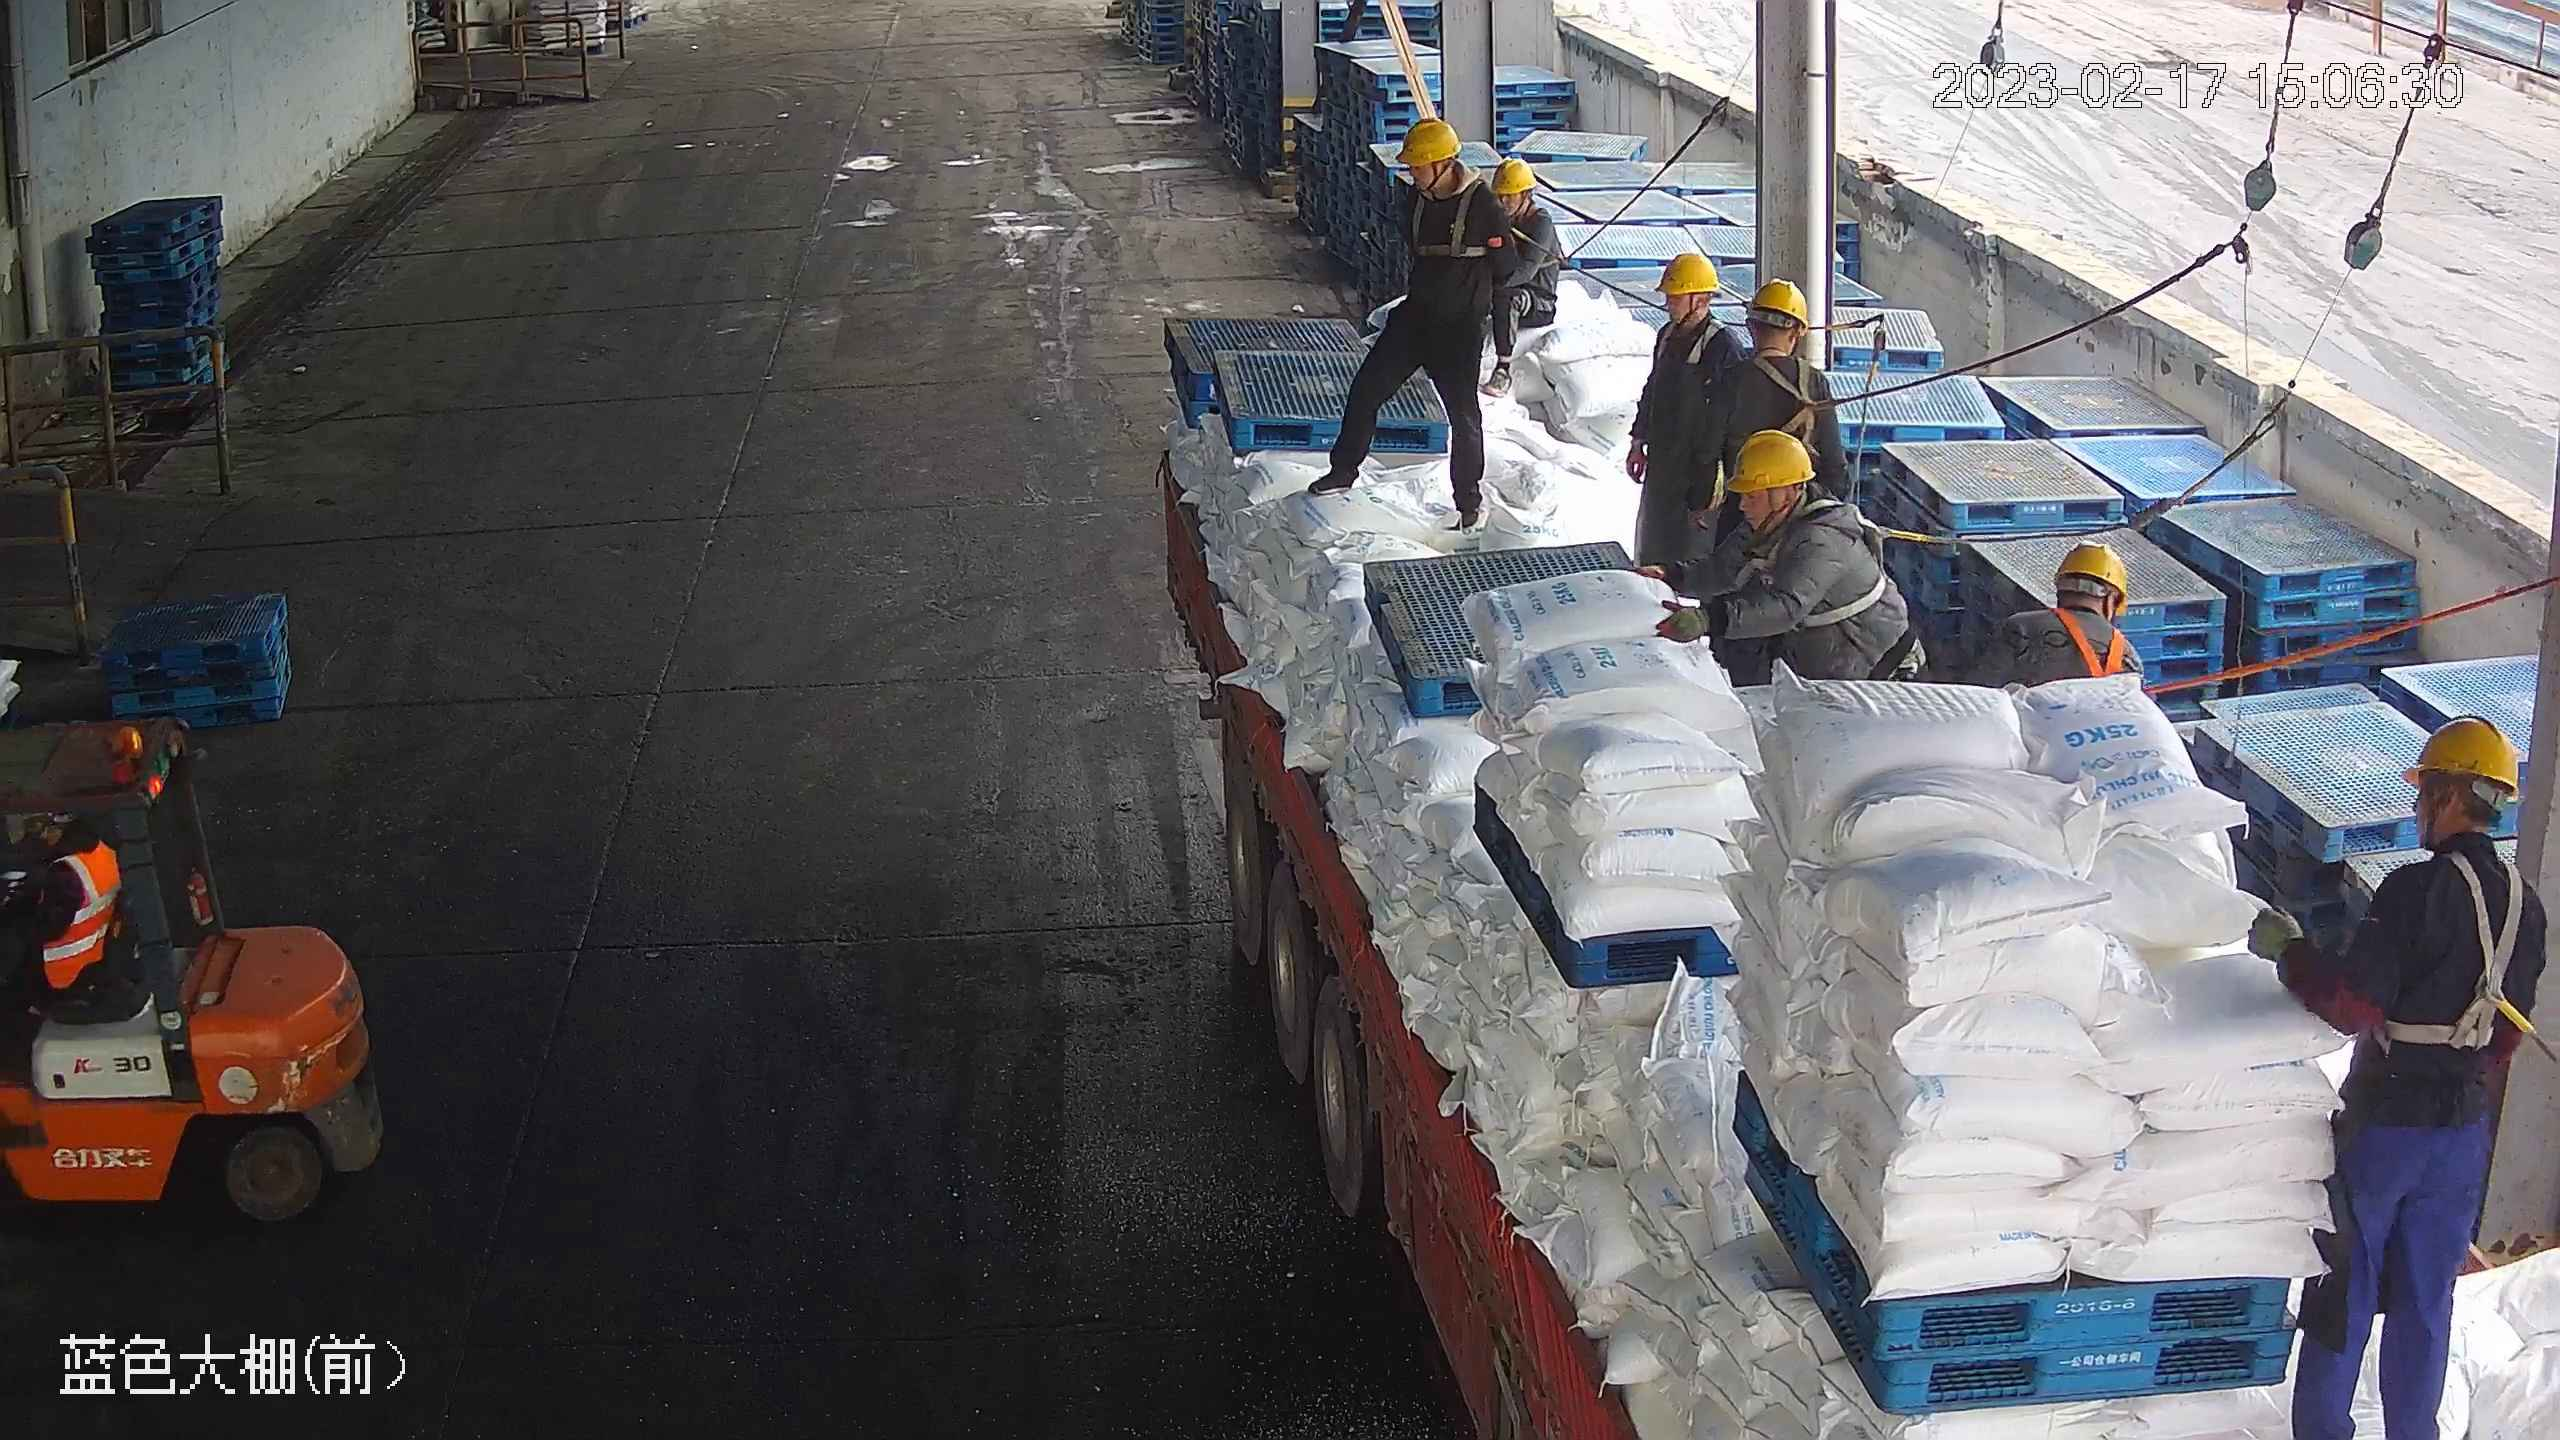belt: (2357, 846, 2549, 1057), (1777, 502, 1922, 628), (1488, 185, 1565, 334), (1750, 347, 1842, 447), (2036, 605, 2142, 683), (1406, 179, 1488, 264), (1650, 313, 1733, 366), (1500, 199, 1561, 267)
head: (2325, 713, 2537, 957), (1620, 248, 1748, 578), (1710, 428, 1870, 585), (2004, 541, 2143, 683), (1725, 276, 1839, 419), (1636, 250, 1740, 379), (1387, 116, 1491, 228), (1487, 155, 1557, 244)
helmet: (2332, 714, 2539, 952), (2404, 716, 2515, 802), (1727, 426, 1816, 489), (2054, 541, 2124, 604), (1747, 277, 1809, 332), (1400, 116, 1460, 164), (1658, 251, 1720, 296), (1489, 157, 1537, 195)
people: (2245, 712, 2548, 1435), (1306, 113, 1511, 520), (1653, 438, 1905, 706), (1700, 272, 1860, 565), (1619, 252, 1751, 582), (0, 808, 121, 1053), (1484, 153, 1568, 388)
truck: (1156, 406, 2552, 1433)
